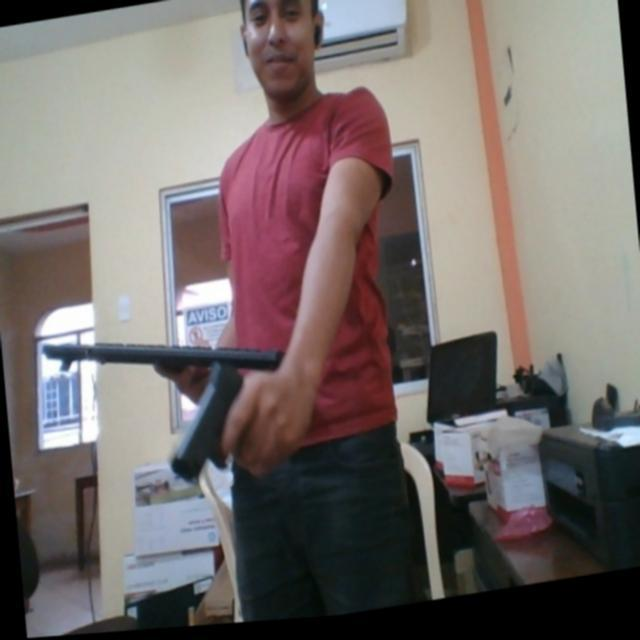weapon: (155, 354, 296, 492)
